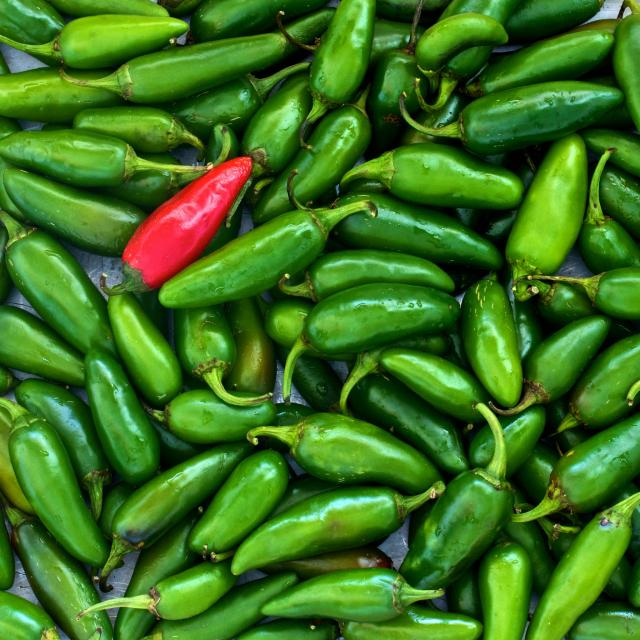aji: (14, 19, 640, 639)
